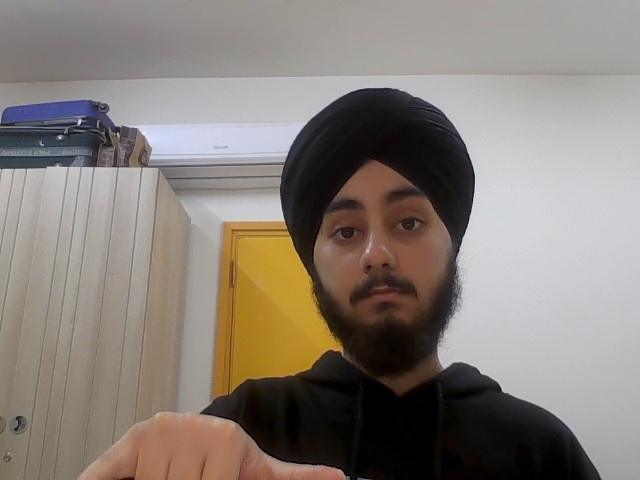Same: (72, 408, 348, 480)
